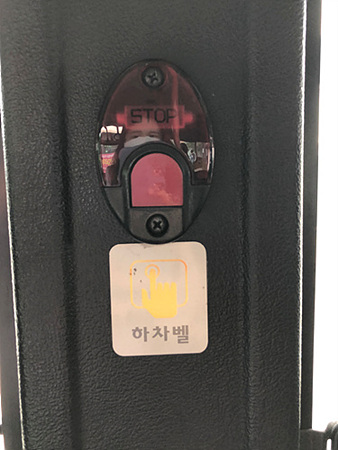bell: (95, 59, 214, 243)
